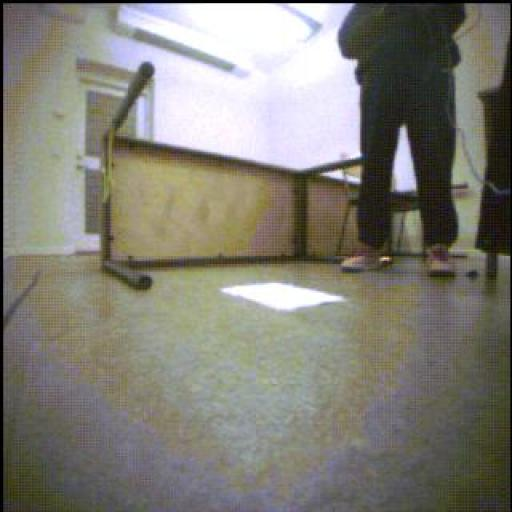Pad: (222, 285, 347, 312)
